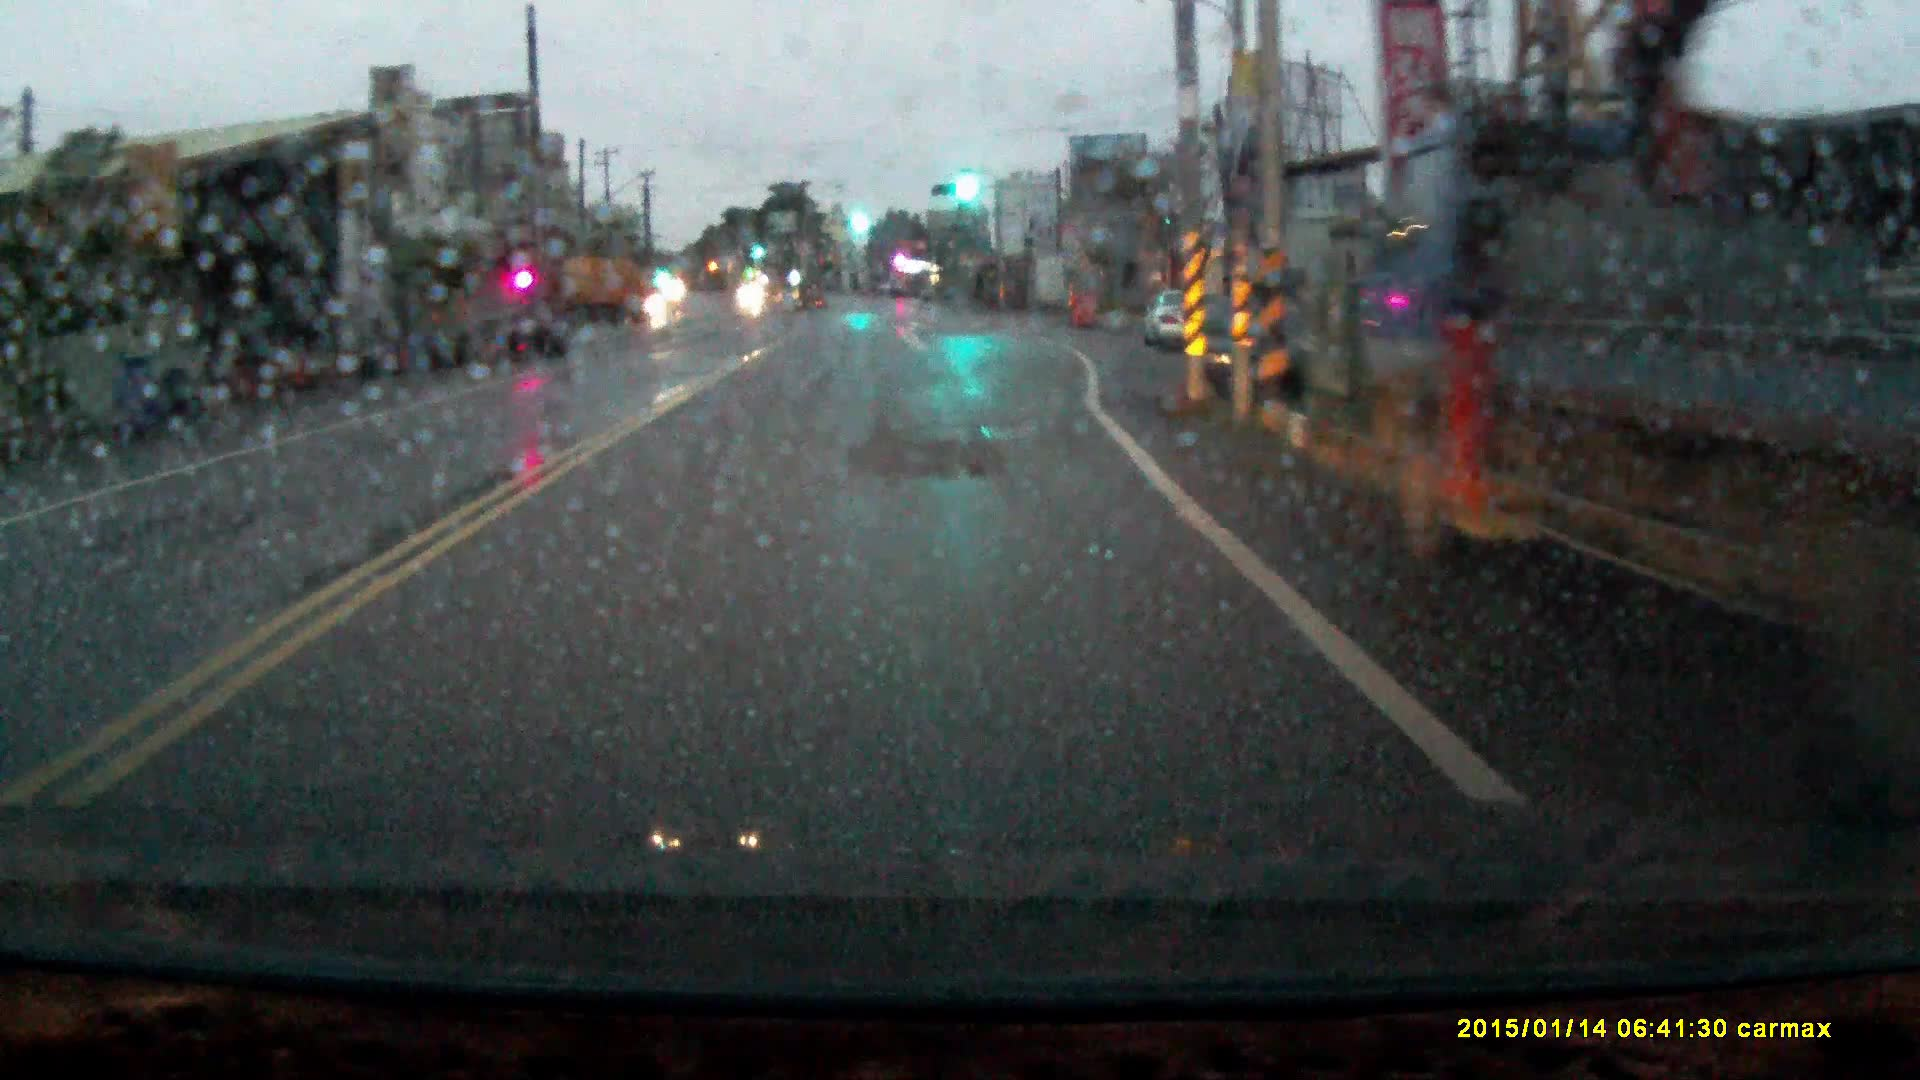vehicle: (1379, 103, 1920, 691), (533, 258, 650, 326), (477, 302, 579, 368)
